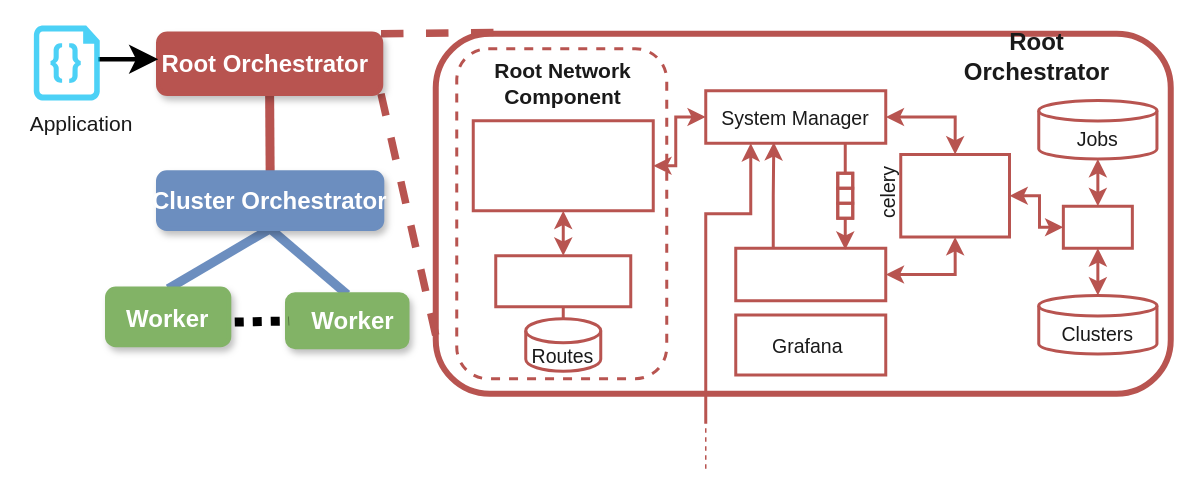
Image size: 1199x497. Some labels were removed from this diagram. The centre of each missing label's shape, as x and y in pixels:
"mongo" belongs at point 1097,226.
"mongo net" belongs at point 563,281.
"Resource Abstractor" belongs at point 954,195.
"Root Service Manager" belongs at point 562,165.
"Scheduler" belongs at point 810,274.
